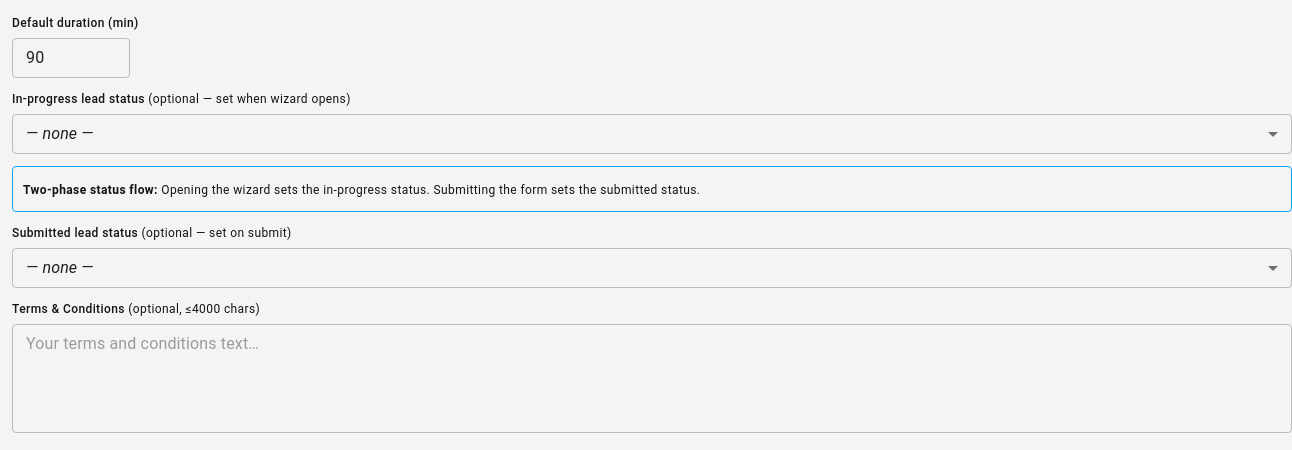
StartDesignVisitConfig › renders lead status options in the submitted status select when opened
Open the second combobox (submitted status)
Press the mouse on the dropdown labelled "— none —" below "Submitted lead status" at point(60, 268), box [26,258,94,277]
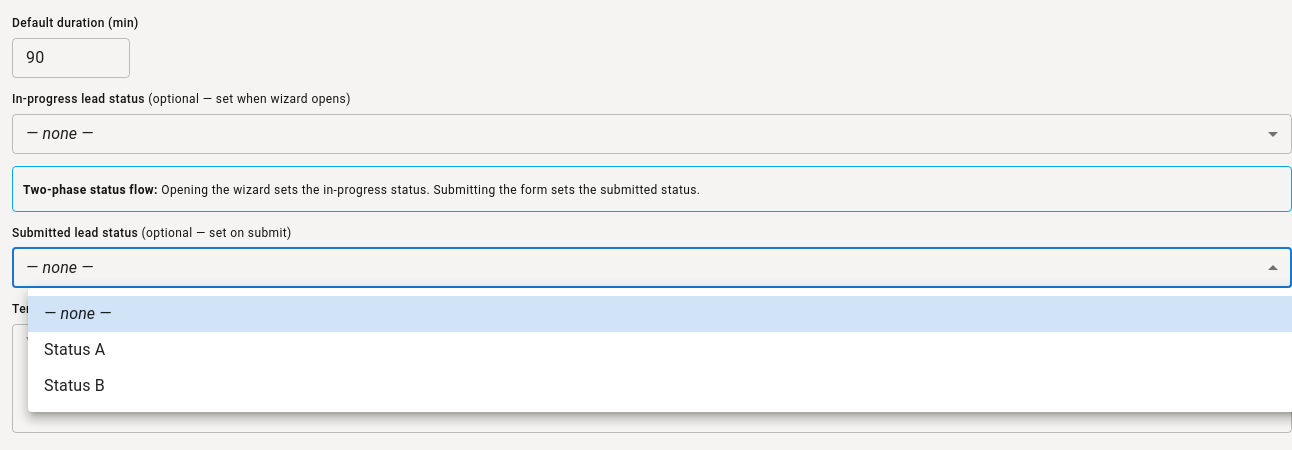
Result: the option "Status A" is shown at [44,340,105,359]
Result: the option "Status B" is shown at [44,376,105,395]
